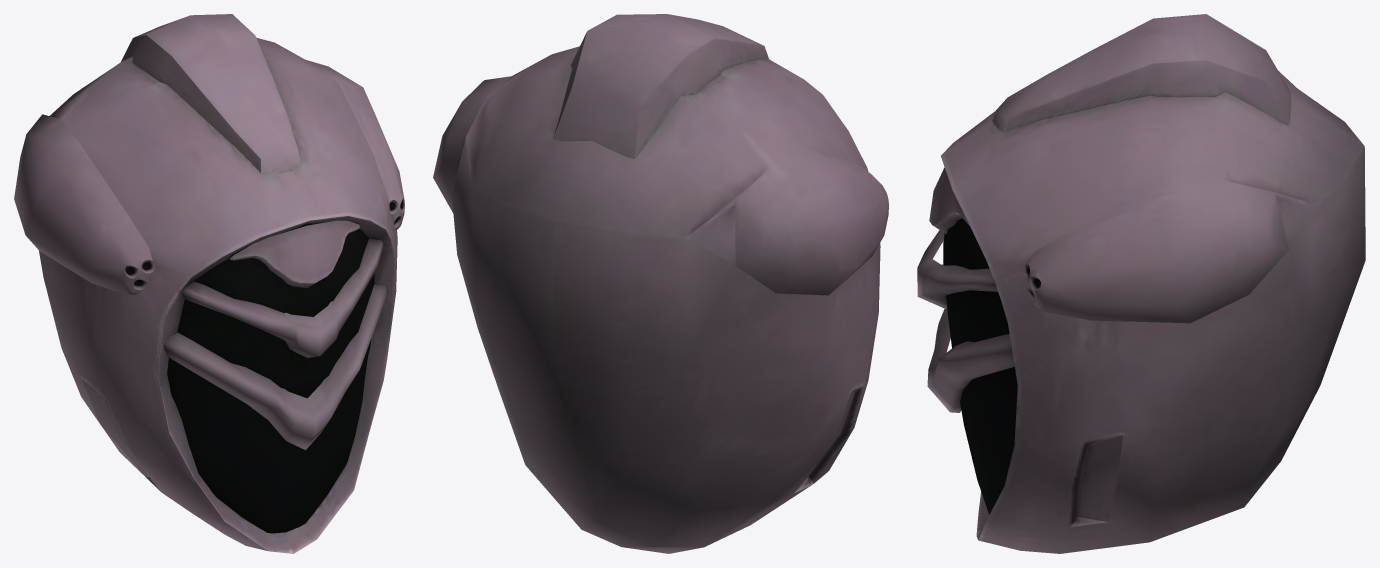
The picture shows the model from 3 angles, left to right: view 1: azimuth 30°, elevation 25°; view 2: azimuth 150°, elevation 25°; view 3: azimuth 270°, elevation 25°; orthographic projection. The views are drawn at different scales.
Visible parts, largest first — view 1: c19_005_00 head; view 2: c19_005_00 head; view 3: c19_005_00 head.
Boxes of the visible parts, left/top/right/bottom form: c19_005_00 head: left=14, top=14, right=404, bottom=553; c19_005_00 head: left=433, top=14, right=888, bottom=553; c19_005_00 head: left=917, top=14, right=1365, bottom=553.
Bounding box in the file's own units: 1.12 × 1.45 × 1.13.
1 material, 1 textured.
